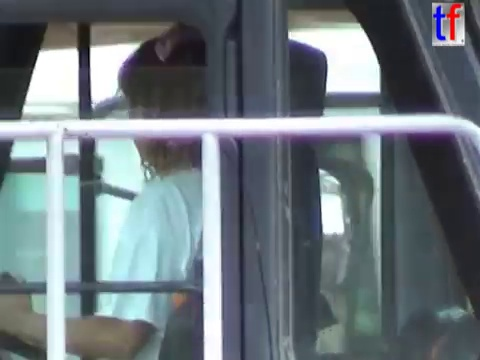truck: (1, 1, 480, 360)
worker: (1, 18, 261, 360)
